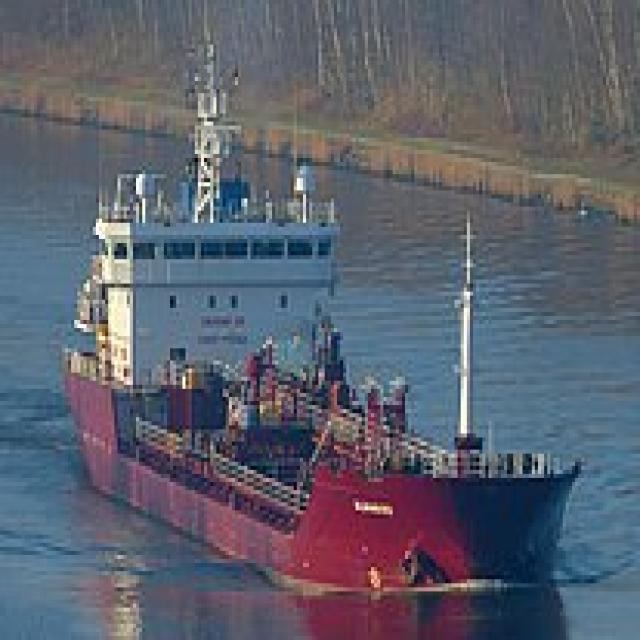Tanker: (68, 29, 587, 592)
